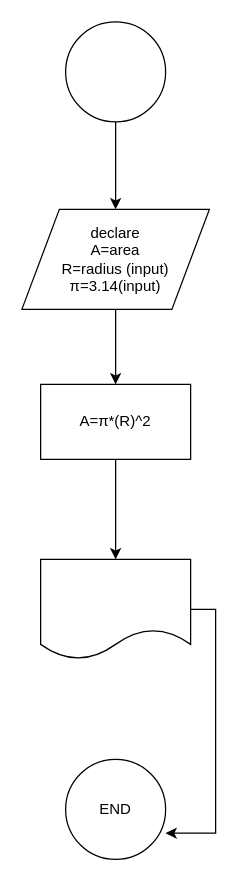
Image size: 248x881. Some labels were removed from this diagram. The shapes that lost their labels are listed below. From the top down, each one's box as (x1, y1, x2, y2) in pixels, then its label:
(64, 21, 166, 122): START
(39, 558, 191, 659): Print A
